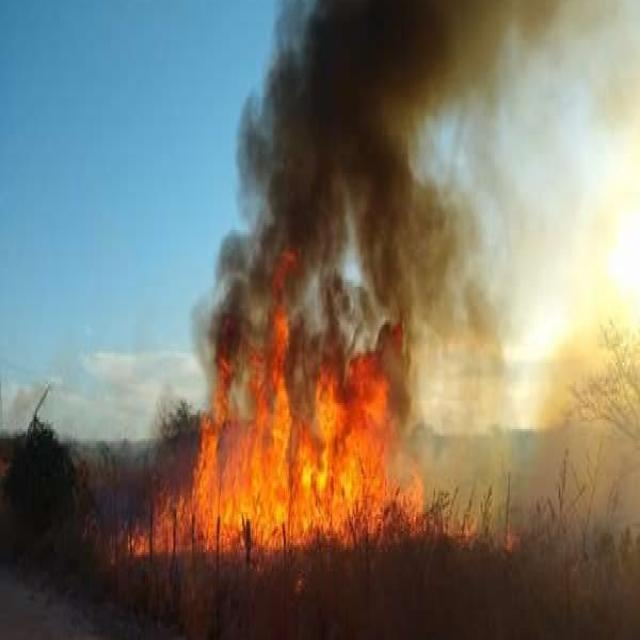Fire: (220, 384, 386, 534)
Smoke: (282, 52, 368, 250)
